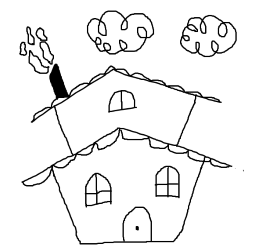closed_window: (85, 171, 112, 207), (155, 165, 180, 198), (106, 91, 137, 112)
clouds: (86, 8, 154, 55), (179, 14, 237, 56)
door: (120, 200, 156, 248)
single_line_roof: (21, 127, 235, 188), (30, 65, 223, 122)
smoking_chimney: (12, 20, 69, 98)
wall: (52, 140, 205, 247)
